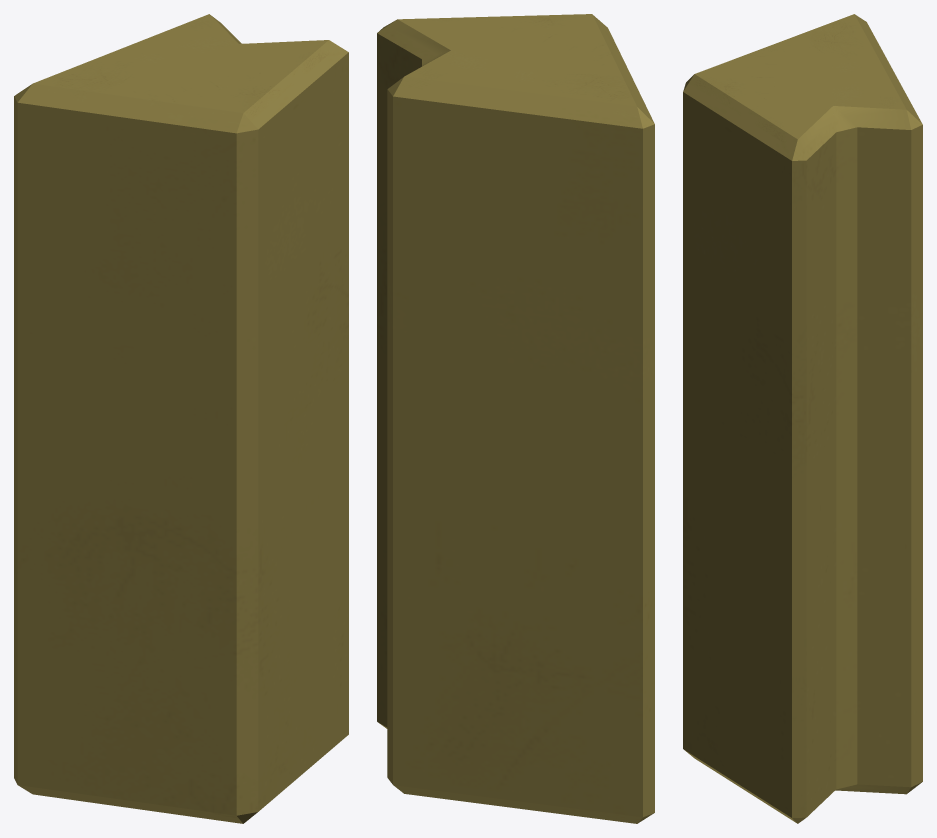
File: spainmajorca.DAE
The picture shows the model from 3 angles, left to right: view 1: azimuth 30°, elevation 25°; view 2: azimuth 150°, elevation 25°; view 3: azimuth 270°, elevation 25°; orthographic projection. The views are drawn at different scales.
Visible parts, largest first — view 1: SpainMajorca; view 2: SpainMajorca; view 3: SpainMajorca.
Part boxes in pixels (x1=…): SpainMajorca: x1=14, y1=14, x2=348, y2=823; SpainMajorca: x1=377, y1=14, x2=654, y2=823; SpainMajorca: x1=683, y1=14, x2=922, y2=823.
Size of the model in its own units: 11.05 by 7.94 by 25.
Materials: 1 (1 with a texture image).
